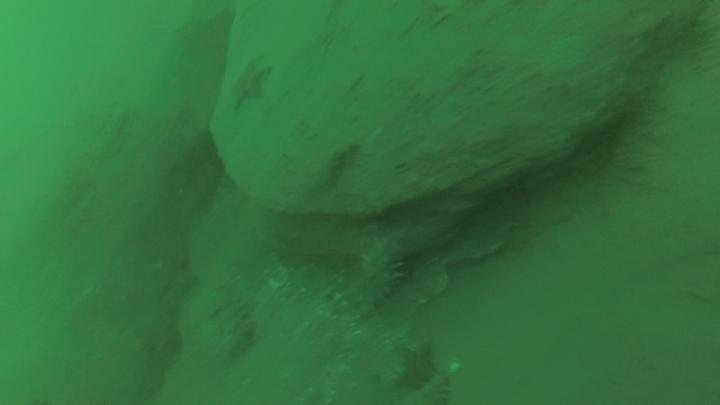holothurian: (337, 231, 412, 320), (314, 142, 366, 196)
starfish: (226, 56, 272, 113)
